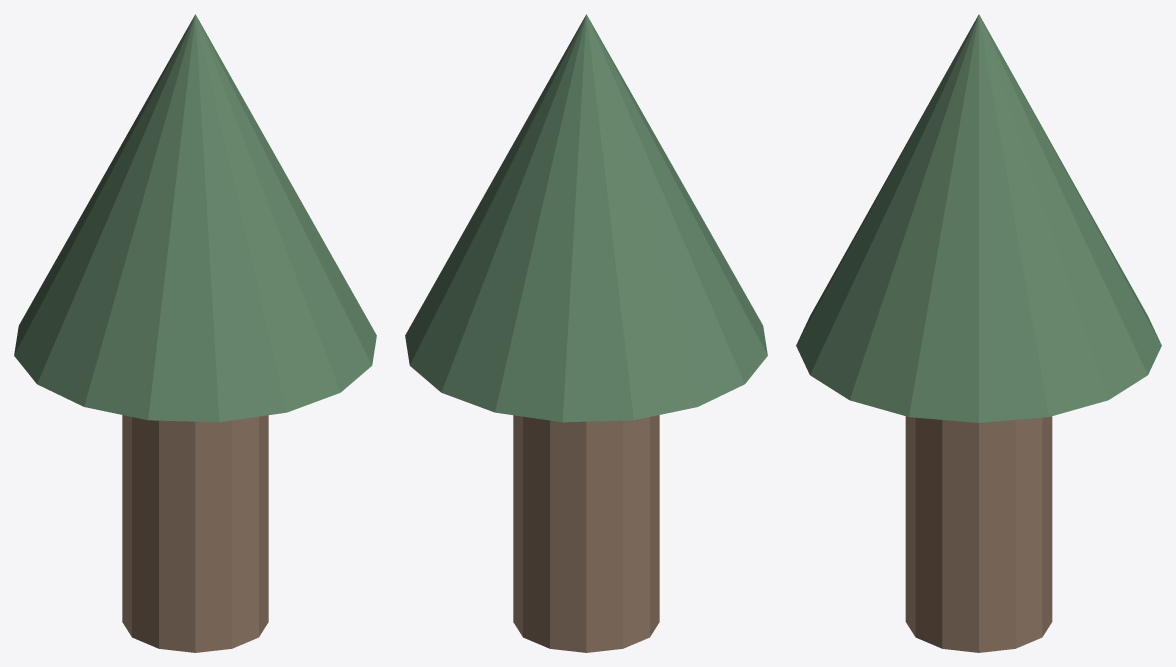
Rendered from pine_sapling.glb.
3 views of the same model, side by side, from view 1: azimuth 30°, elevation 25°; view 2: azimuth 150°, elevation 25°; view 3: azimuth 270°, elevation 25° (orthographic).
Visible parts, largest first — view 1: Pine_Sapling_Needles, Pine_Sapling_Trunk; view 2: Pine_Sapling_Needles, Pine_Sapling_Trunk; view 3: Pine_Sapling_Needles, Pine_Sapling_Trunk.
Boxes of the visible parts, x1,y1,x2,y2 form: Pine_Sapling_Needles: (14,14,376,422); Pine_Sapling_Trunk: (122,415,268,652); Pine_Sapling_Needles: (405,14,767,422); Pine_Sapling_Trunk: (513,415,659,652); Pine_Sapling_Needles: (796,14,1161,422); Pine_Sapling_Trunk: (905,416,1052,652).
Bounding box in the file's own units: 0.3 × 0.55 × 0.3.
